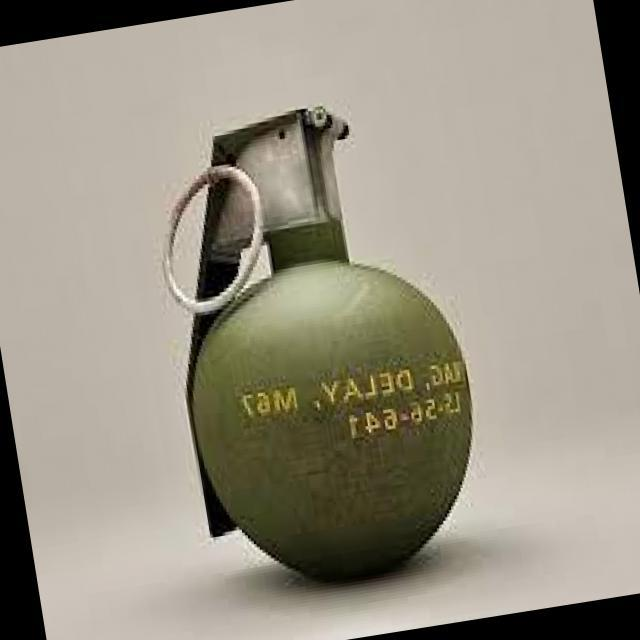grenade: (134, 82, 484, 598)
